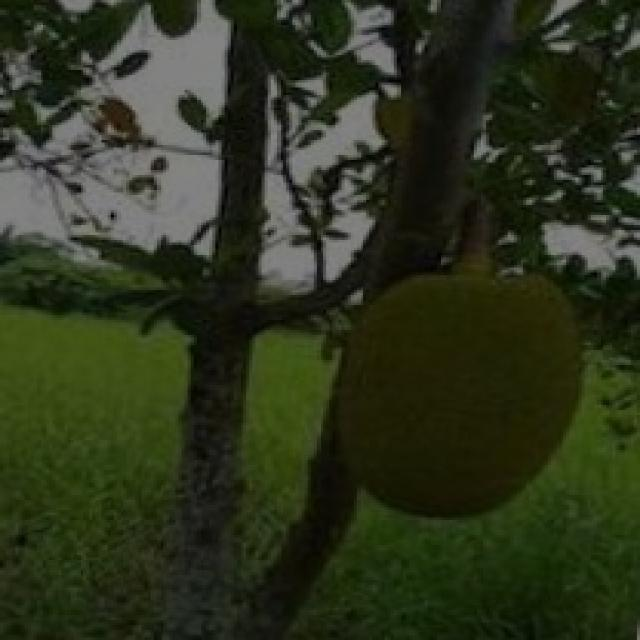Fruit: (0, 260, 372, 635), (292, 242, 618, 552)
